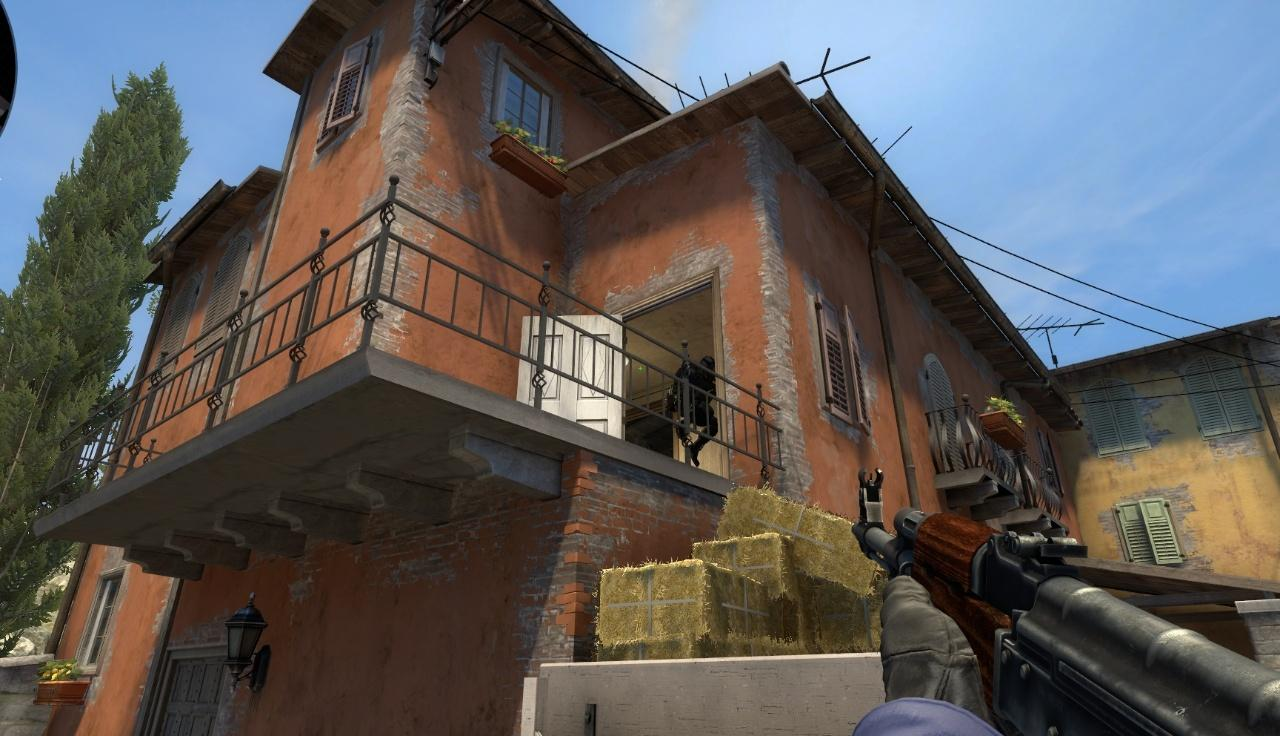ct: (667, 356, 717, 464)
cthead: (700, 356, 715, 373)
rifle: (847, 475, 1280, 731)
